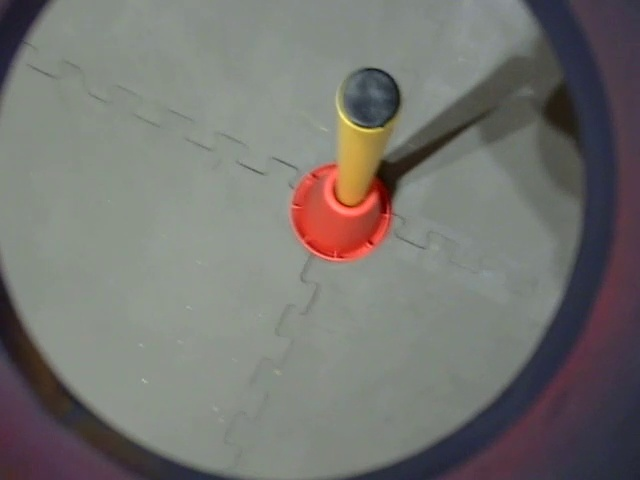tip: (330, 60, 410, 140)
